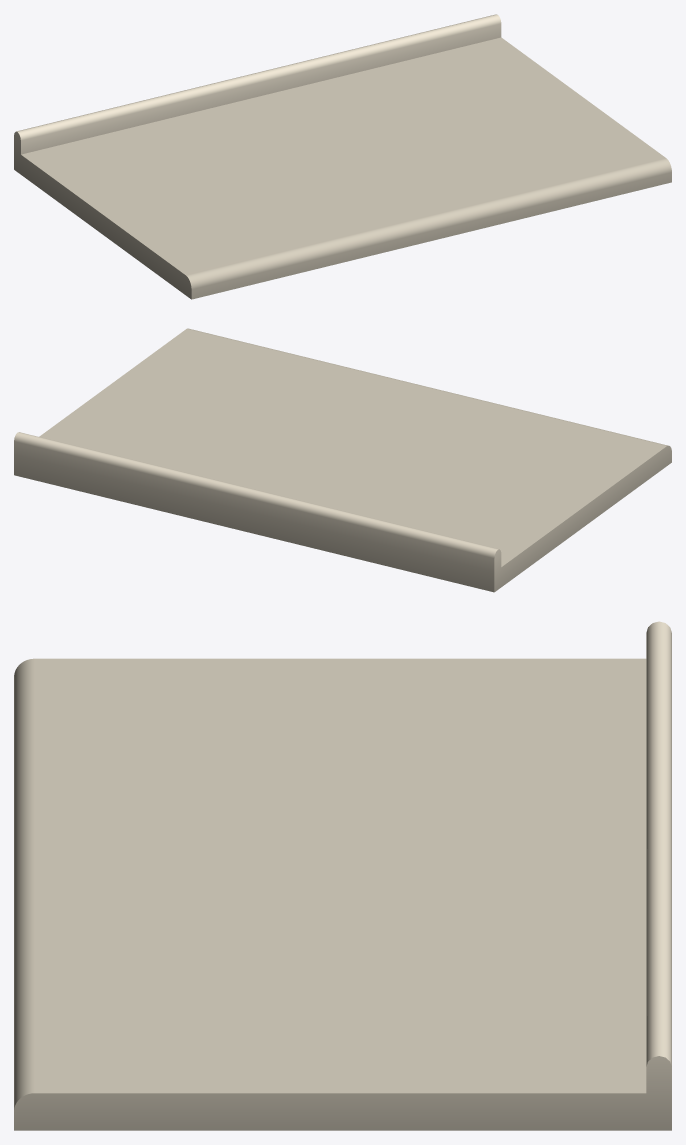
The model's file is KitTop_10.glb.
3 renders of one model, top to bottom at view 1: azimuth 30°, elevation 25°; view 2: azimuth 150°, elevation 25°; view 3: azimuth 270°, elevation 25°, orthographic. The views are drawn at different scales.
Visible parts, largest first — view 1: SM_KitTop_10; view 2: SM_KitTop_10; view 3: SM_KitTop_10.
Boxes of the visible parts, <box> form: SM_KitTop_10: <box>14,14,671,299</box>; SM_KitTop_10: <box>14,328,671,592</box>; SM_KitTop_10: <box>14,621,671,1130</box>.
Size of the model in its own units: 1 by 0.08 by 0.64.
1 material, 1 textured.
